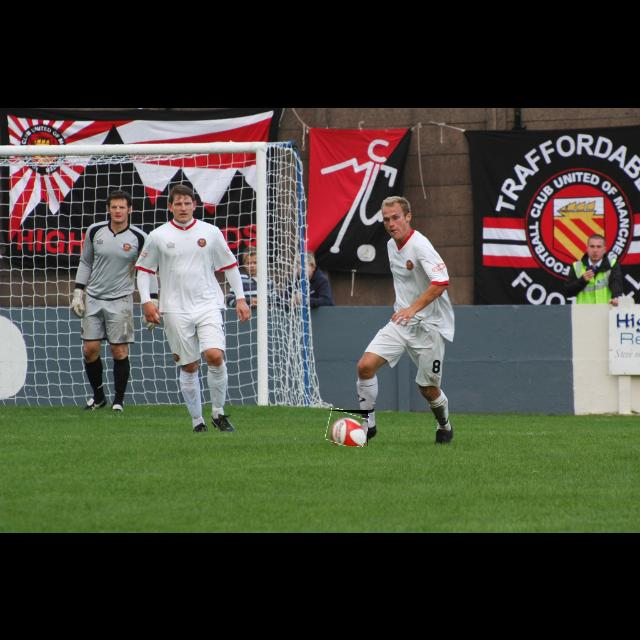Football: (326, 410, 368, 446)
